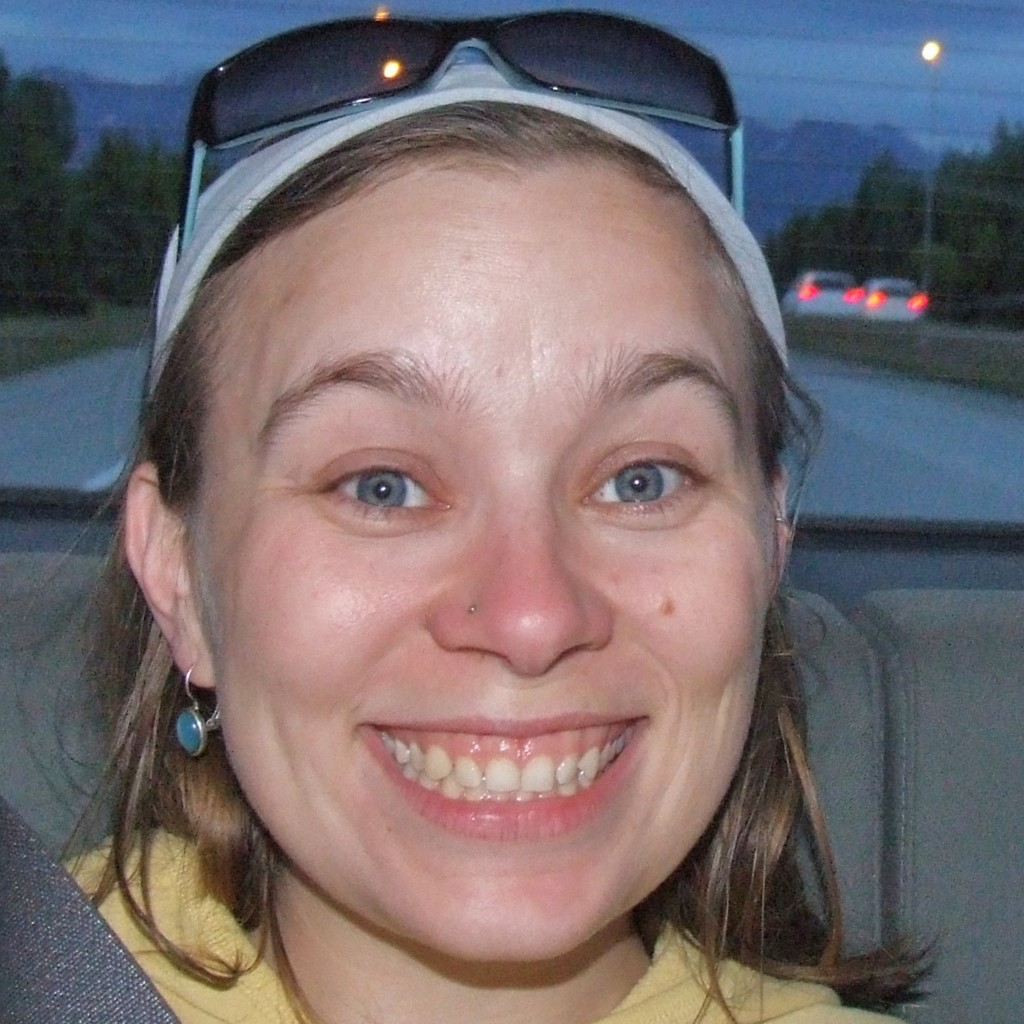sin_mascara: (170, 150, 767, 971)
